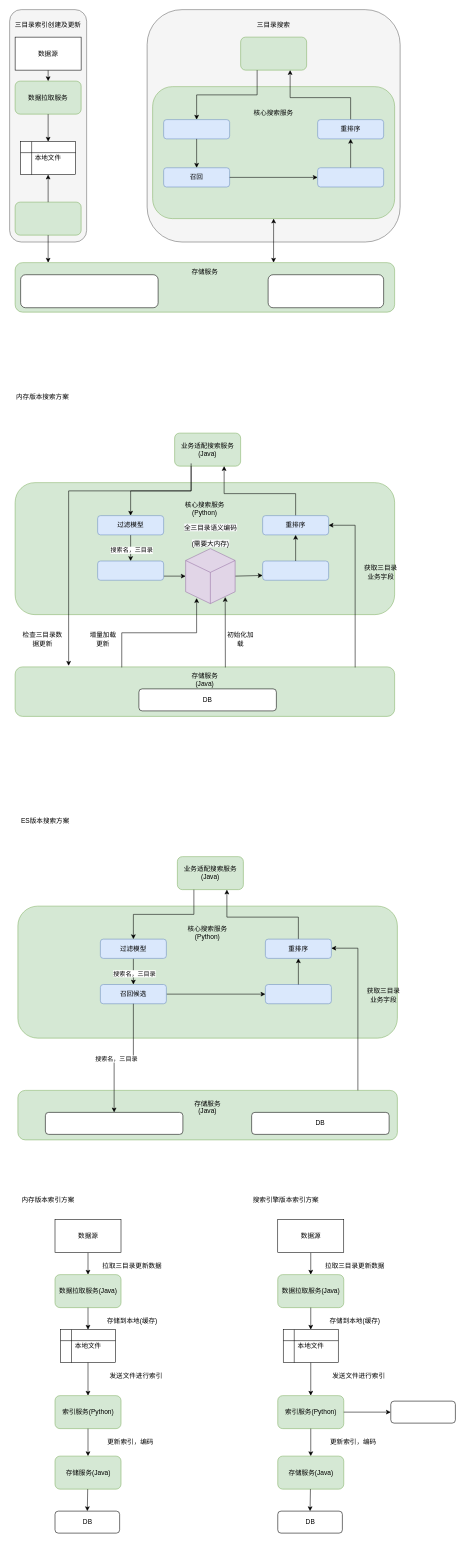
The diagram is 465 pixels wide and 1543 high, and some of its shapes have lost their labels. Here are the shapes that lost their labels. From the top down, the centre of each, then its label:
At point (273, 53): "业务适配搜索服务".
At point (196, 129): "过滤".
At point (350, 177): "排序".
At point (48, 218): "索引服务".
At point (89, 291): "DB(Oracle, PolarDB, Mysql, Neo4j)".
At point (326, 291): "SE(search engine)".
At point (130, 570): "DL编码模型".
At point (295, 570): "DL相似度排序模型".
At point (298, 994): "DL编码模型 DL相似度排序模型".
At point (114, 1123): "ES".
At point (422, 1412): "Elastic Search".
